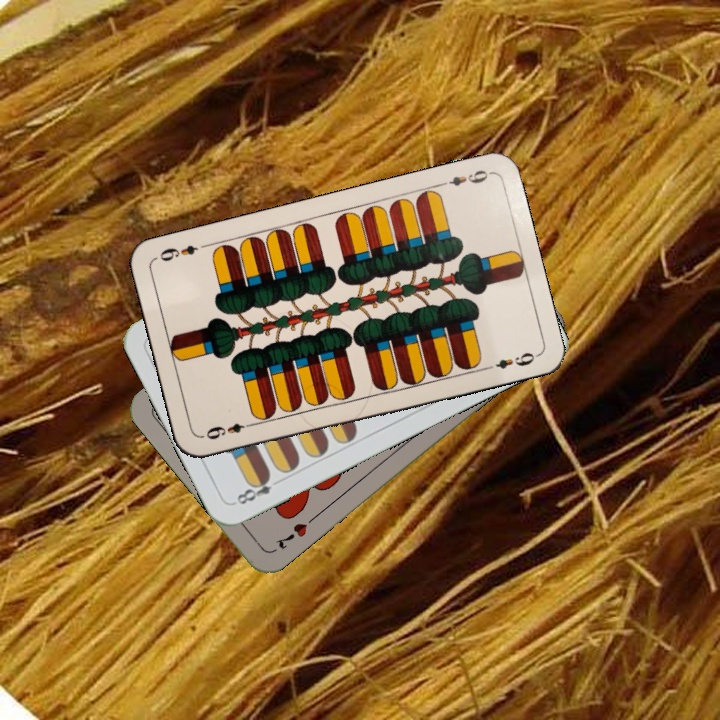E8: (230, 470, 285, 507)
E9: (199, 418, 257, 442), (434, 166, 493, 189)
H7: (273, 511, 319, 552)
